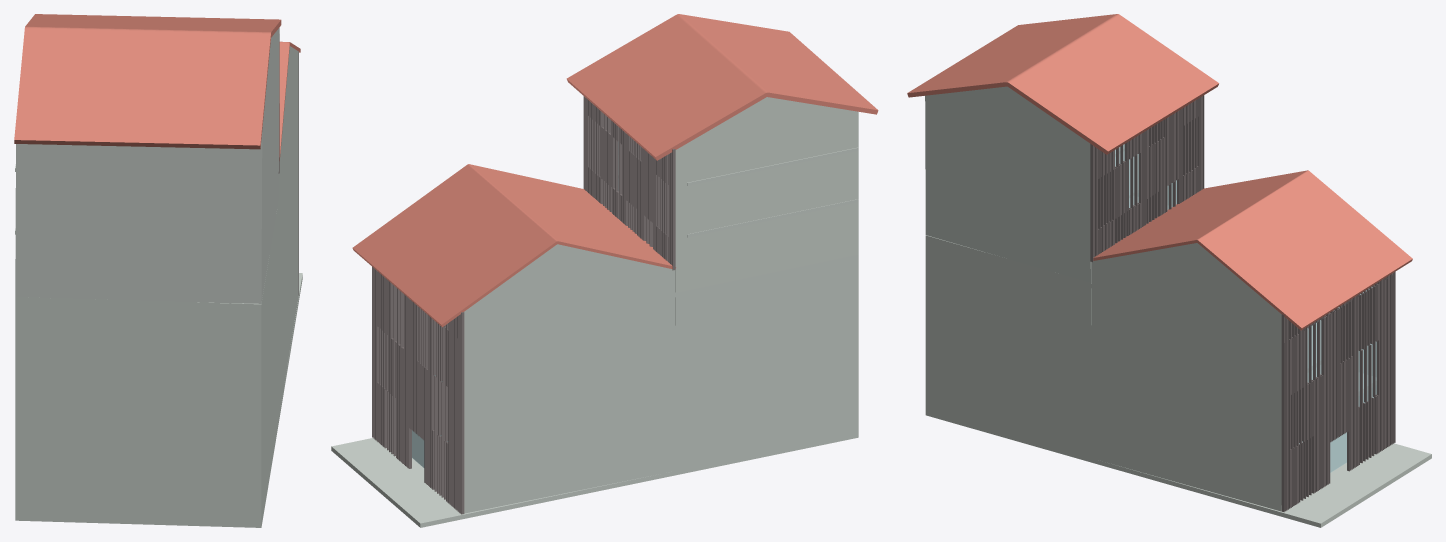
3 renders of one model, left to right at view 1: azimuth 30°, elevation 25°; view 2: azimuth 150°, elevation 25°; view 3: azimuth 270°, elevation 25°, orthographic. The views are drawn at different scales.
Visible parts, largest first — view 1: Object.1559, Object.1566, Object.1565, Object.1569, Object.1560, Object.1562, Object.1558, Object.1561, Object.1572, Object.1567, Object.1568, Object.1573; view 2: Object.1570, Object.1561, Object.1566, Object.1568, Object.1565, Object.1563, Object.1558, Object.1573, Object.1567, Object.1572, Object.1575, Object.1574; view 3: Object.1569, Object.1560, Object.1566, Object.1568, Object.1565, Object.1563, Object.1572, Object.1558, Object.1571, Object.1562, Object.1567, Object.1573.
Boxes of the visible parts, left/top/right/bottom form: Object.1559: left=20, top=301, right=256, bottom=522; Object.1566: left=15, top=27, right=279, bottom=303; Object.1565: left=14, top=14, right=281, bottom=149; Object.1569: left=278, top=46, right=298, bottom=417; Object.1560: left=256, top=205, right=278, bottom=522; Object.1562: left=15, top=201, right=278, bottom=315; Object.1558: left=15, top=327, right=293, bottom=527; Object.1561: left=15, top=300, right=20, bottom=515; Object.1572: left=15, top=249, right=282, bottom=381; Object.1567: left=15, top=309, right=283, bottom=449; Object.1568: left=279, top=41, right=300, bottom=160; Object.1573: left=15, top=89, right=297, bottom=311; Object.1570: left=464, top=244, right=675, bottom=513; Object.1561: left=675, top=263, right=858, bottom=470; Object.1566: left=675, top=97, right=858, bottom=292; Object.1568: left=352, top=164, right=675, bottom=327; Object.1565: left=566, top=14, right=878, bottom=160; Object.1563: left=331, top=431, right=858, bottom=527; Object.1558: left=511, top=433, right=858, bottom=508; Object.1573: left=475, top=255, right=858, bottom=338; Object.1567: left=475, top=370, right=858, bottom=451; Object.1572: left=475, top=313, right=858, bottom=395; Object.1575: left=687, top=147, right=858, bottom=185; Object.1574: left=687, top=199, right=858, bottom=237; Object.1569: left=1091, top=243, right=1281, bottom=511; Object.1560: left=925, top=239, right=1091, bottom=457; Object.1566: left=925, top=86, right=1176, bottom=282; Object.1568: left=1093, top=170, right=1412, bottom=330; Object.1565: left=907, top=14, right=1218, bottom=154; Object.1563: left=926, top=411, right=1431, bottom=527; Object.1572: left=925, top=293, right=1320, bottom=395; Object.1558: left=925, top=411, right=1238, bottom=504; Object.1571: left=1299, top=287, right=1376, bottom=472; Object.1562: left=925, top=199, right=1129, bottom=291; Object.1567: left=925, top=348, right=1376, bottom=450; Object.1573: left=926, top=237, right=1271, bottom=339.
Bounding box in the file's own units: 2.44 × 2.17 × 2.89.
